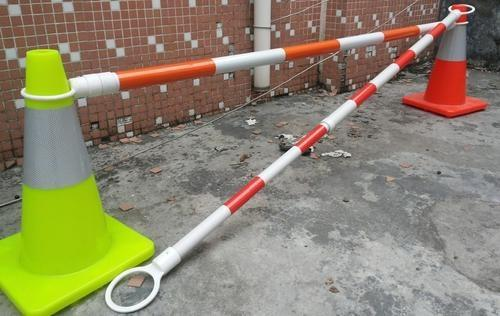cone_barrel: (9, 47, 121, 289), (414, 8, 477, 114)
